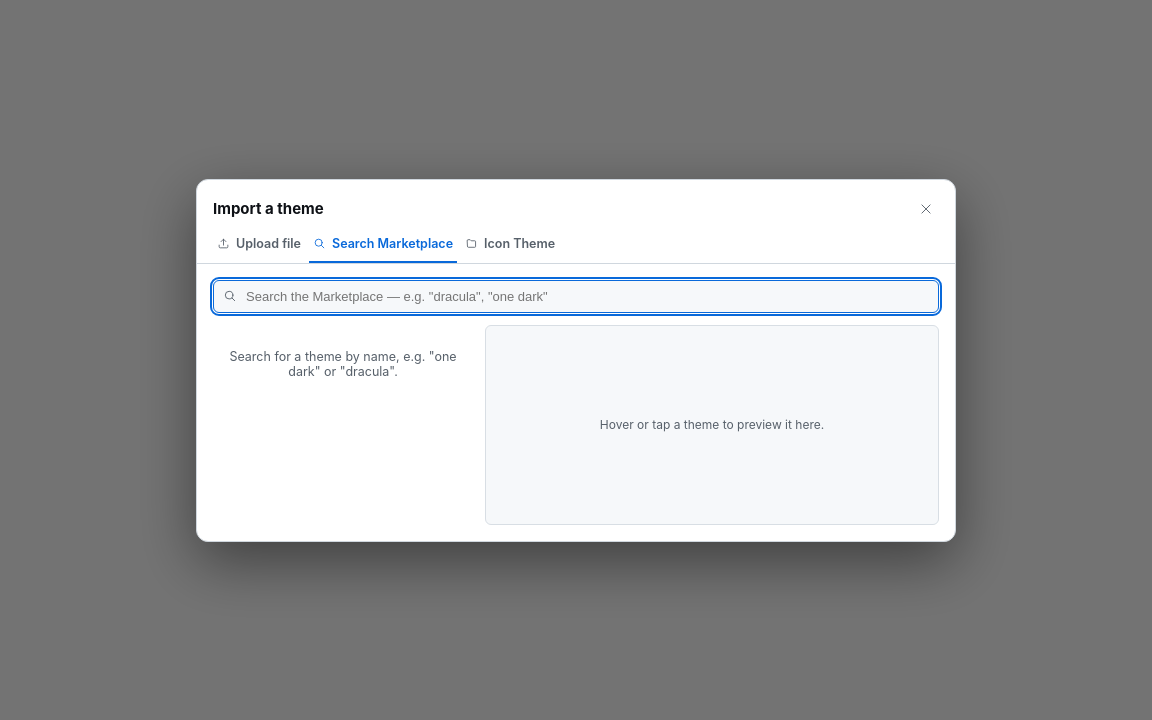
Scenario: ImportThemeDialog — search tab › shows a Marketplace-specific error message when the search fails
In the field named "Search the VS Code Marketplace for a theme": coordinates (576, 296) [213,280,939,312], type "dracula"
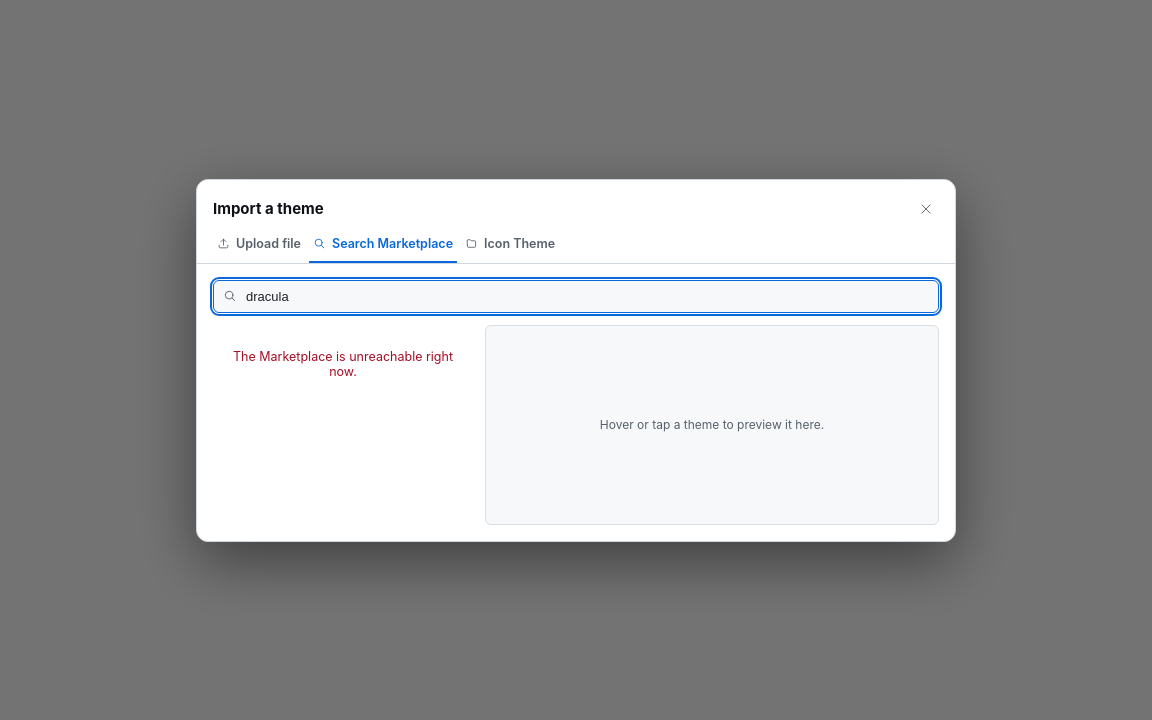
Now the text "The Marketplace is unreachable right now." is shown, box [233,348,453,378]
